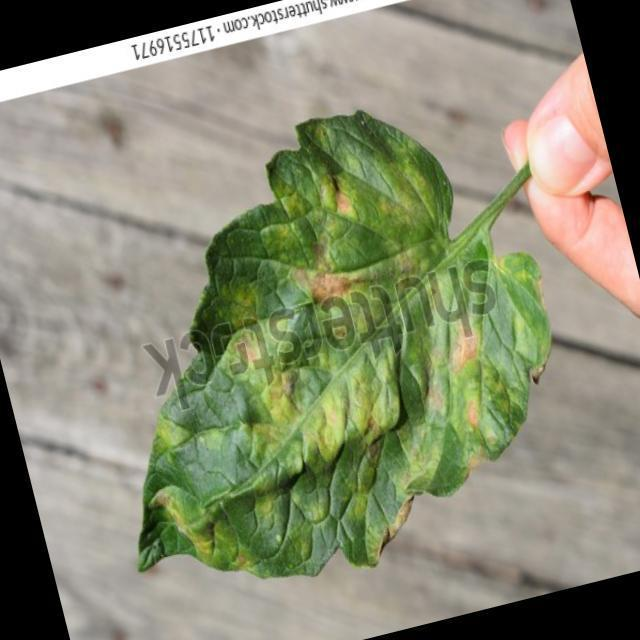Mosaic Virus: (70, 78, 594, 602)
